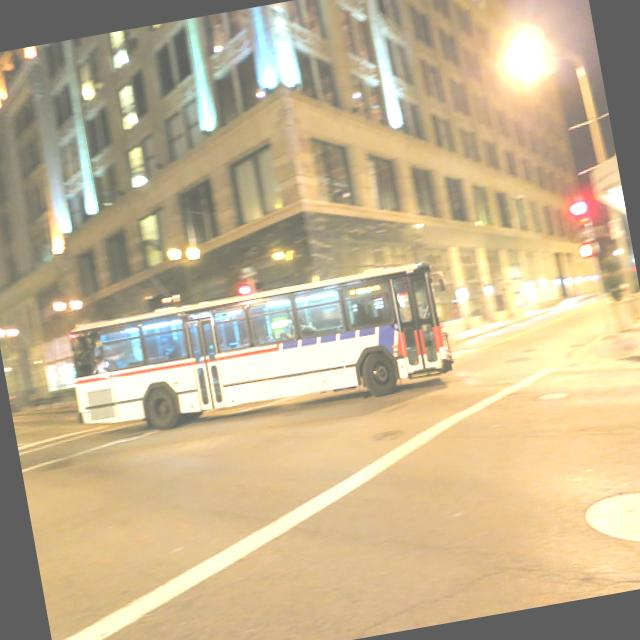Vehicle: (63, 253, 454, 447)
